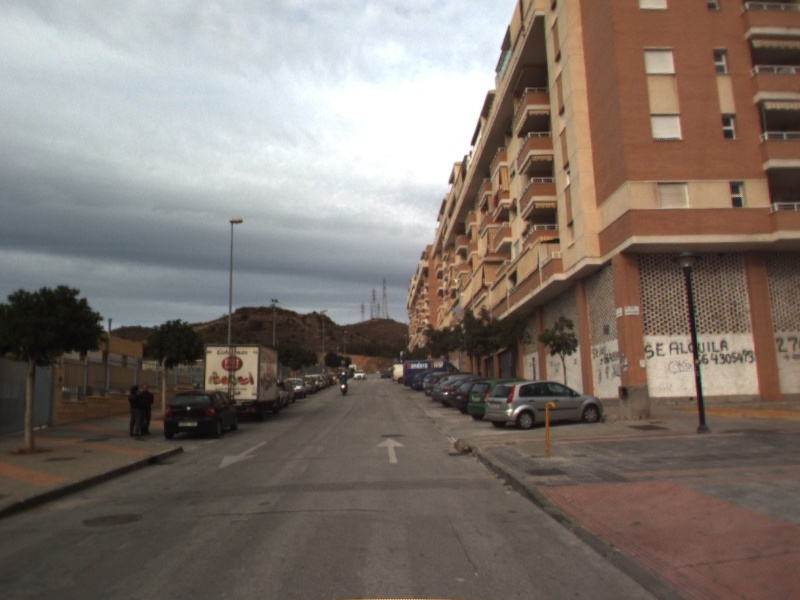STRAIGHT: (374, 435, 407, 465)
